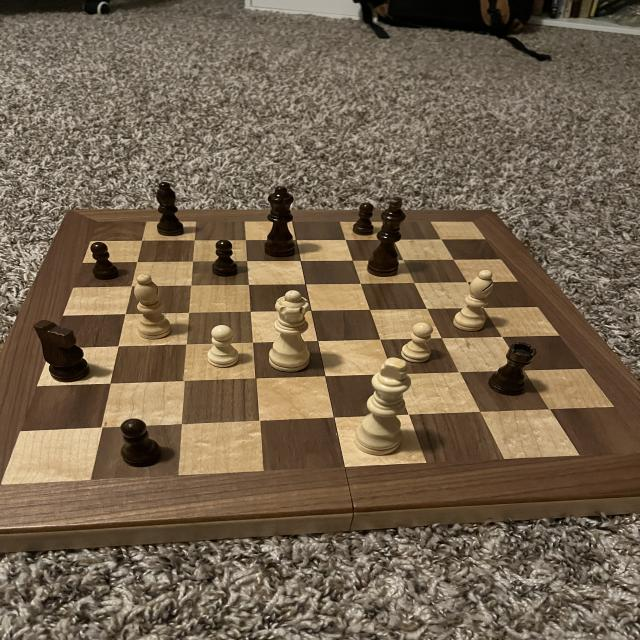bishop: (147, 179, 191, 241)
black-bishop: (364, 194, 410, 276)
black-king: (31, 316, 93, 389)
black-knight: (118, 417, 163, 469), (85, 240, 119, 282), (210, 237, 244, 279), (350, 199, 378, 238)
black-pawn: (261, 183, 301, 260)
black-queen: (489, 339, 539, 400)
black-rook: (446, 265, 496, 337), (132, 271, 177, 347)
white-bishop: (349, 353, 414, 460)
white-knight: (205, 319, 242, 374), (398, 321, 436, 366)
white-pawn: (263, 286, 315, 379)
